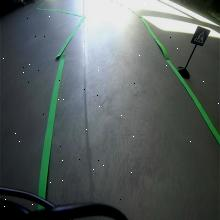crosswalk: (192, 26, 210, 46)
